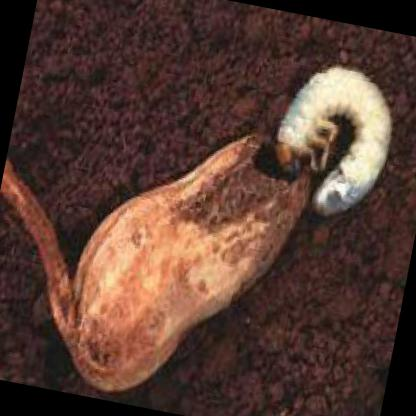root grubs: (272, 62, 390, 220)
